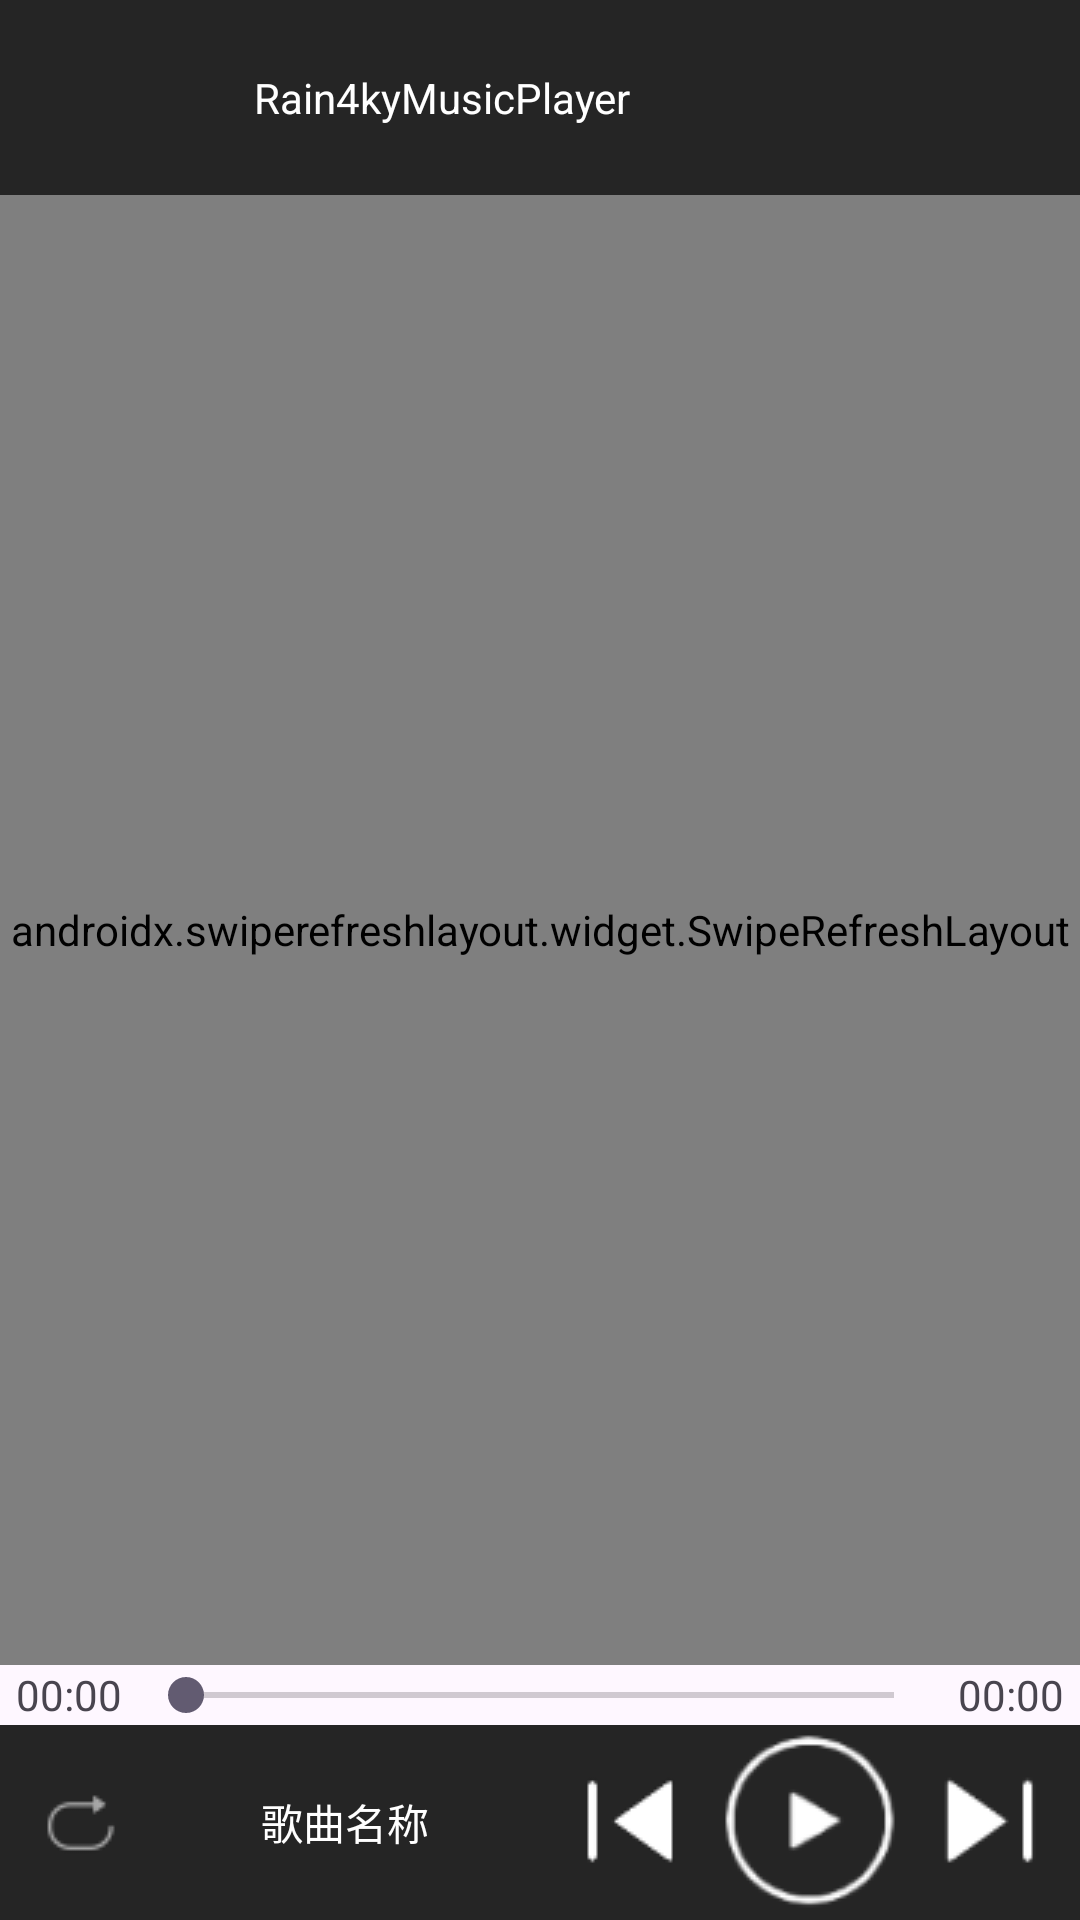

Where icons sit on this 1080×1920 app screen, as [x1,y1,x2,y2]:
play bar: [725,1735,895,1905]
play bar last: [587,1780,673,1863]
play bar next: [946,1779,1033,1863]
play loop: [47,1795,115,1851]
